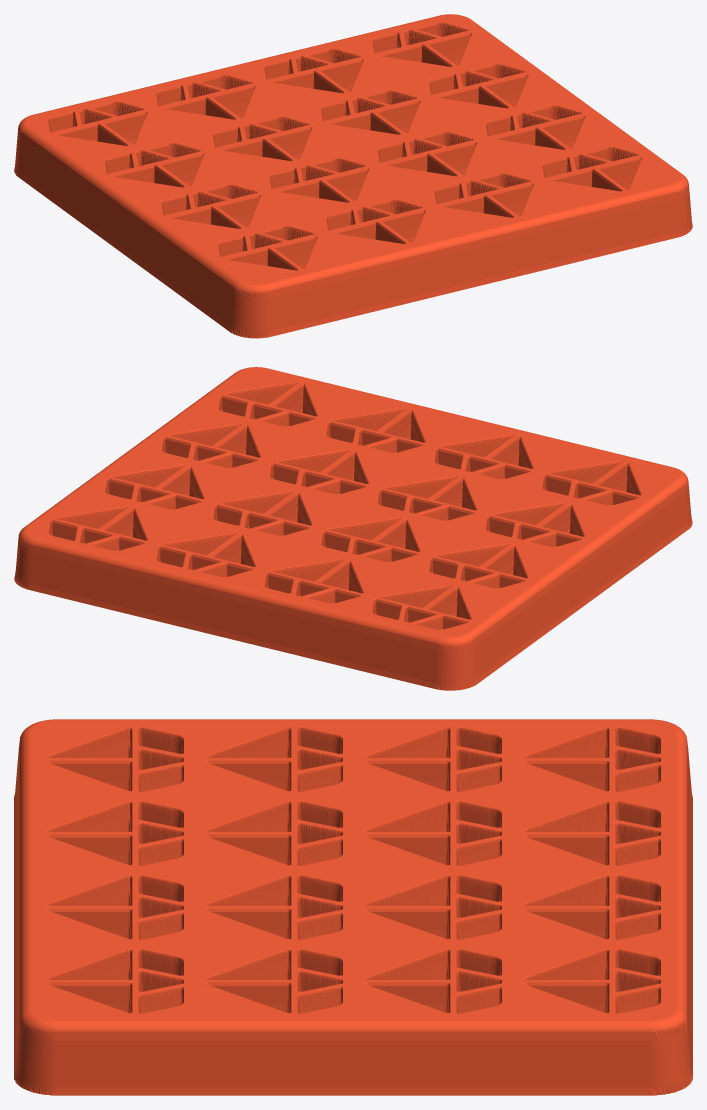
The model's file is mold.glb.
3 renders of one model, top to bottom at view 1: azimuth 30°, elevation 25°; view 2: azimuth 150°, elevation 25°; view 3: azimuth 270°, elevation 25°, orthographic. The views are drawn at different scales.
Parts seen in each view (by area): view 1: geometry_0; view 2: geometry_0; view 3: geometry_0.
Boxes of the visible parts, x1,y1,x2,y2 form: geometry_0: (14, 14, 692, 338); geometry_0: (14, 367, 692, 690); geometry_0: (14, 719, 692, 1095).
Bounding box in the file's own units: 0.1569 × 0.0159 × 0.1434.
